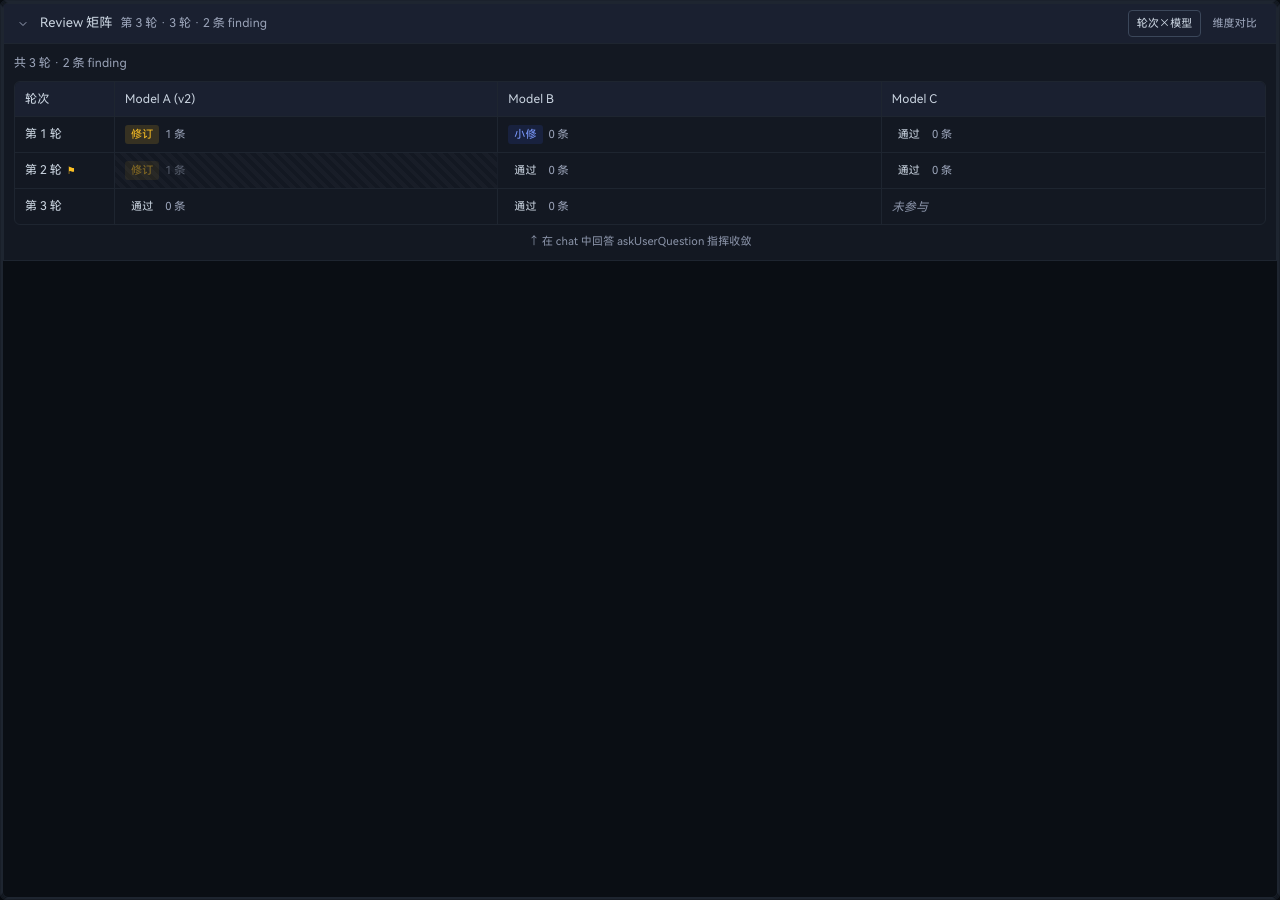
Test case: ReviewMatrix state gating › switches to the dimension-compare tab when clicked
Check: the element that starts with "共 3 轮 · 2 条 finding" is shown, box [14,54,1266,225]
Note: Click the 维度对比 tab.
Step 1. Click the button with class "review-matrix__tab" showing "维度对比" → (1235, 24), box [1203,10,1266,37]
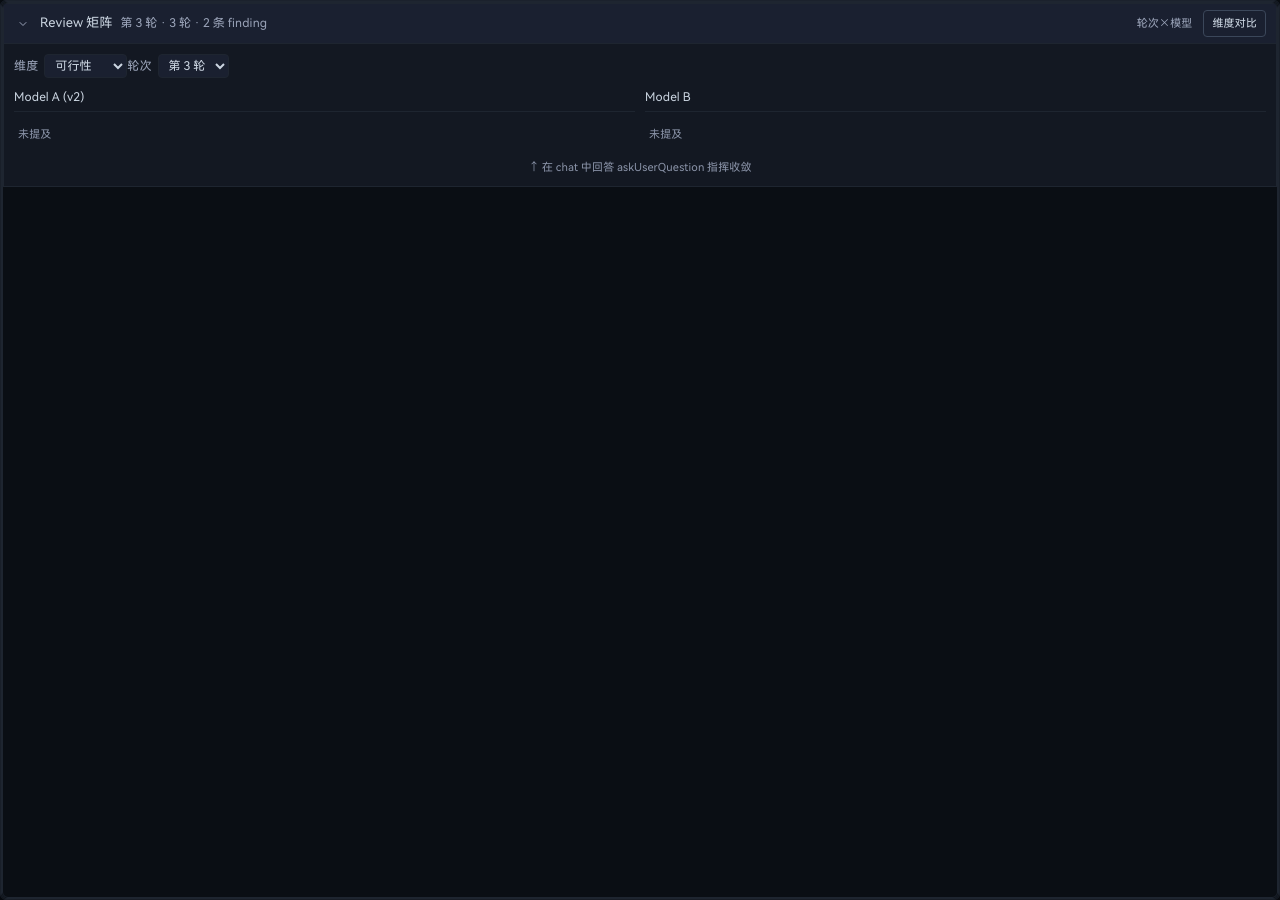
Check: the element showing "维度 轮次 Model A (v2) 未提及 Model B 未提及" is shown, box [14,54,1266,151]
